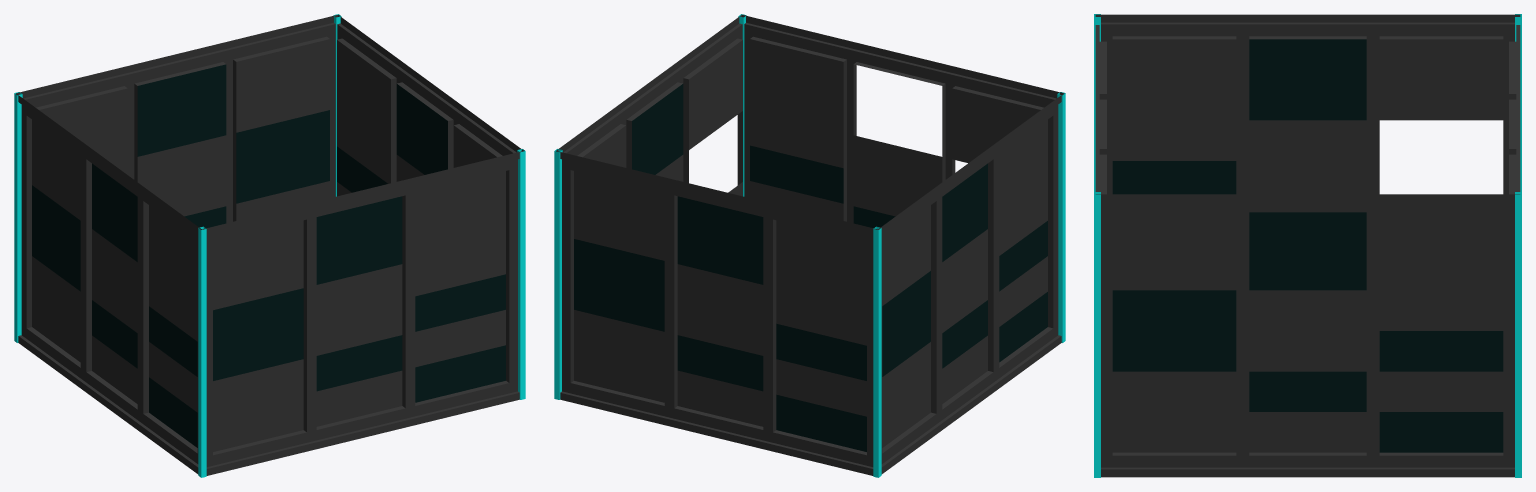
Rendered from SM_Building_2.fbx.
3 views of the same model, side by side, from view 1: azimuth 30°, elevation 25°; view 2: azimuth 150°, elevation 25°; view 3: azimuth 270°, elevation 25° (orthographic). The views are drawn at different scales.
Parts seen in each view (by area): view 1: Cube; view 2: Cube; view 3: Cube.
Part boxes in pixels (x1,y1,x2,y2): Cube: [14, 14, 525, 477]; Cube: [554, 14, 1065, 477]; Cube: [1094, 14, 1521, 477].
Bounding box in the file's own units: 2.05 × 1.5 × 2.05.
